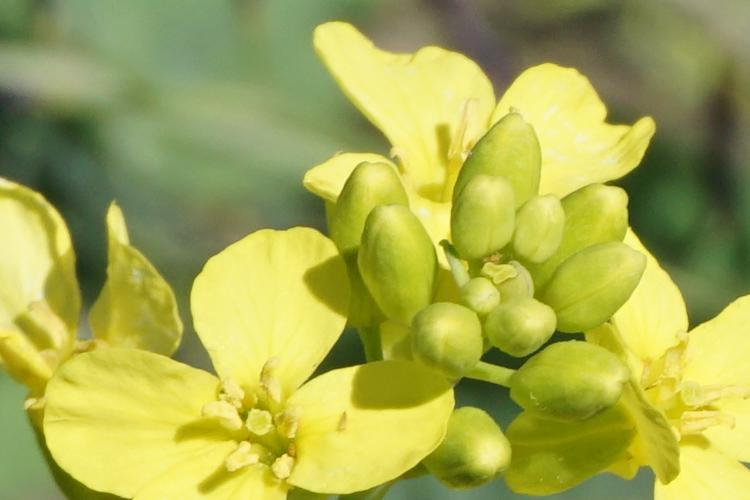bud: (531, 230, 659, 337), (491, 343, 654, 425), (525, 172, 651, 276), (406, 395, 520, 492), (332, 158, 417, 268), (368, 205, 442, 323), (395, 305, 493, 384), (445, 172, 521, 273), (510, 191, 571, 271), (481, 291, 561, 347), (449, 270, 507, 325)
yellow: (55, 227, 459, 489), (290, 27, 630, 214), (569, 260, 746, 499), (6, 179, 185, 353)
